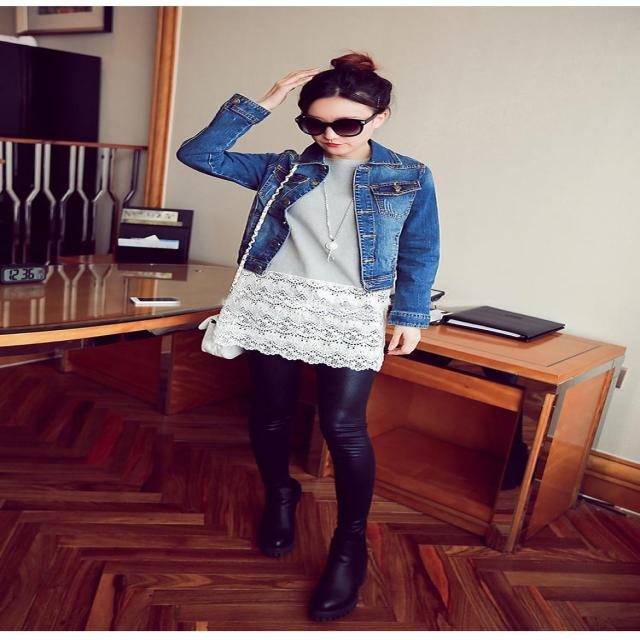long sleeve top: (176, 97, 436, 369)
trousers: (247, 276, 384, 533)
